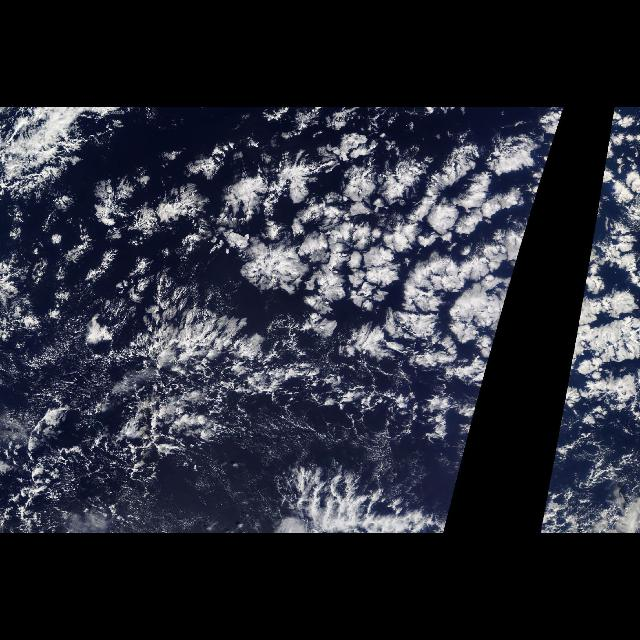Flower: (101, 111, 563, 401), (564, 119, 636, 401)
Gravel: (10, 286, 216, 524)
Sugar: (208, 384, 460, 486)
